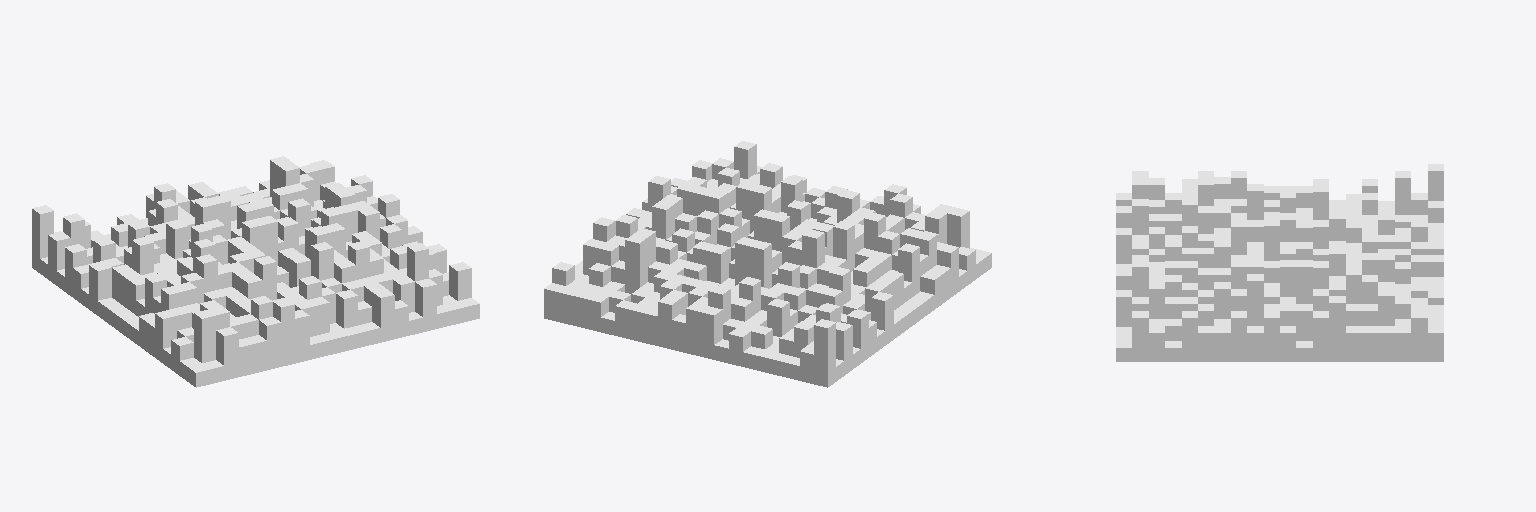
Rendered from HayField.vox.obj.
3 renders of one model, left to right at view 1: azimuth 30°, elevation 25°; view 2: azimuth 150°, elevation 25°; view 3: azimuth 270°, elevation 25°, orthographic.
Visible parts, largest first — view 1: object 1; view 2: object 1; view 3: object 1.
Boxes of the visible parts, x1,y1,x2,y2 form: object 1: [32, 156, 479, 387]; object 1: [544, 141, 991, 387]; object 1: [1116, 164, 1443, 361].
Bounding box in the file's own units: 2 × 0.5 × 2.